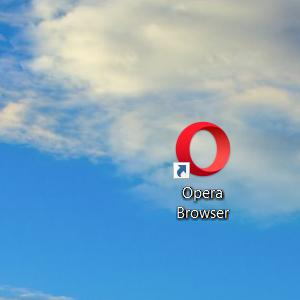opera: (173, 121, 230, 180)
